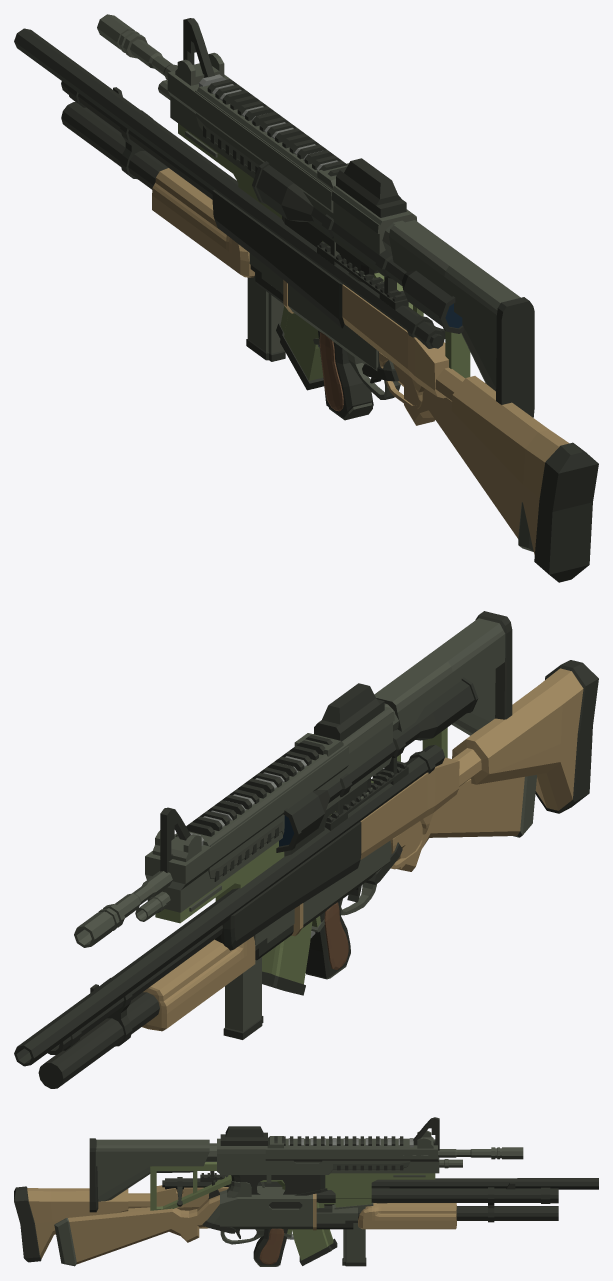
Rendered from guns.glb.
The picture shows the model from 3 angles, top to bottom: view 1: azimuth 30°, elevation 25°; view 2: azimuth 150°, elevation 25°; view 3: azimuth 270°, elevation 25°; orthographic projection. The views are drawn at different scales.
Parts seen in each view (by area): view 1: dmr, carbine, shotgun, smg, shotgun_pump, pistol, smg_mag, carbine_mag; view 2: dmr, carbine, shotgun, smg, shotgun_pump, pistol, smg_mag, carbine_mag, pistol_slide; view 3: shotgun, carbine, dmr, smg, shotgun_pump, pistol, carbine_mag, smg_mag, pistol_slide.
Boxes of the visible parts, box(x1,y1,x2,y2) form: dmr: box(14, 28, 598, 582); carbine: box(97, 14, 534, 417); shotgun: box(61, 81, 533, 551); smg: box(158, 52, 470, 378); shotgun_pump: box(152, 168, 254, 277); pistol: box(250, 265, 373, 420); smg_mag: box(247, 272, 284, 353); carbine_mag: box(280, 306, 323, 380); dmr: box(14, 660, 598, 1066); carbine: box(74, 611, 512, 995); shotgun: box(38, 774, 536, 1088); smg: box(135, 727, 447, 1039); shotgun_pump: box(142, 936, 255, 1031); pistol: box(255, 901, 350, 979); smg_mag: box(225, 957, 261, 1031); carbine_mag: box(262, 921, 312, 984); pistol_slide: box(253, 909, 294, 946); shotgun: box(54, 1180, 558, 1266); carbine: box(89, 1117, 523, 1265); dmr: box(14, 1171, 598, 1262); smg: box(150, 1130, 462, 1266); shotgun_pump: box(358, 1203, 456, 1229); pistol: box(253, 1205, 357, 1266); carbine_mag: box(292, 1202, 333, 1260); smg_mag: box(334, 1202, 373, 1261); pistol_slide: box(316, 1205, 357, 1223).
Bounding box in the file's own units: 0.0841 × 0.319 × 1.16.
